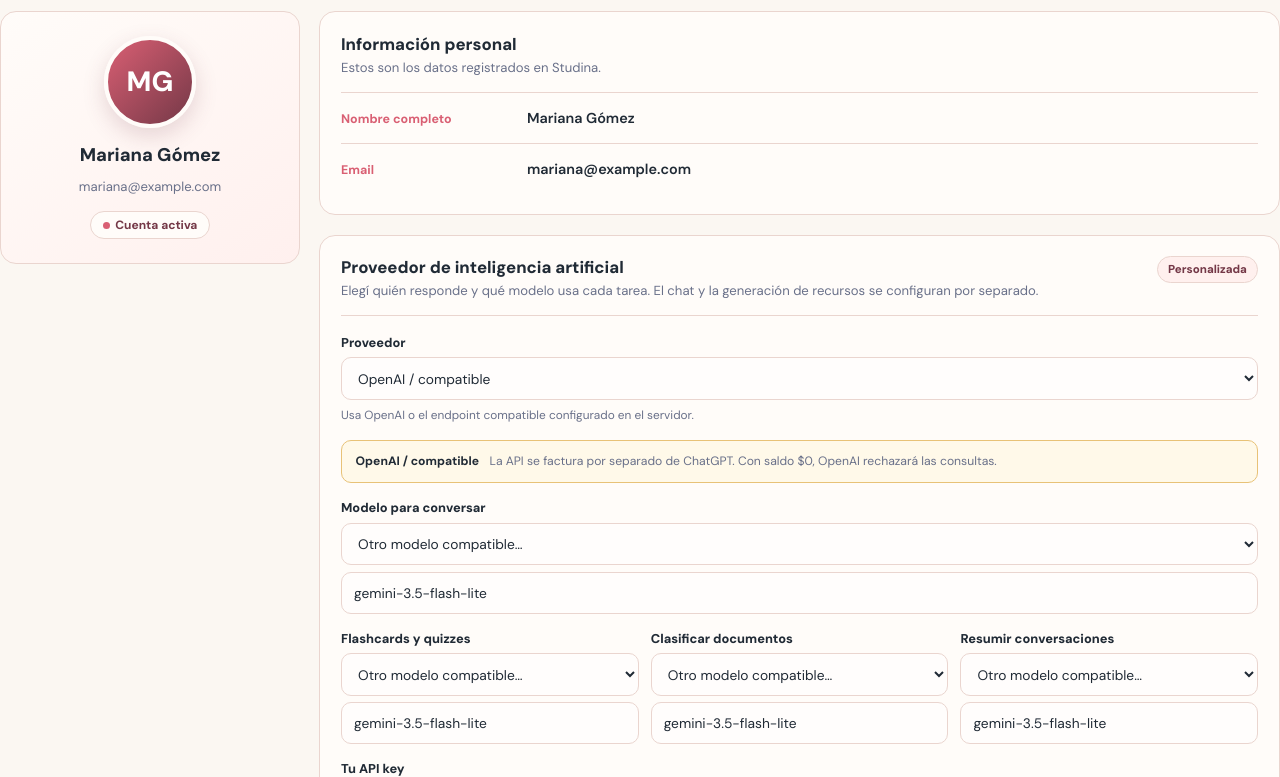
ProfilePage AI settings › conserva la API key guardada de openai al actualizar sólo un modelo
Select "Otro modelo compatible…" in the dropdown labelled "Modelo para conversar" at {"x": 800, "y": 544}, box [341,523,1258,566]
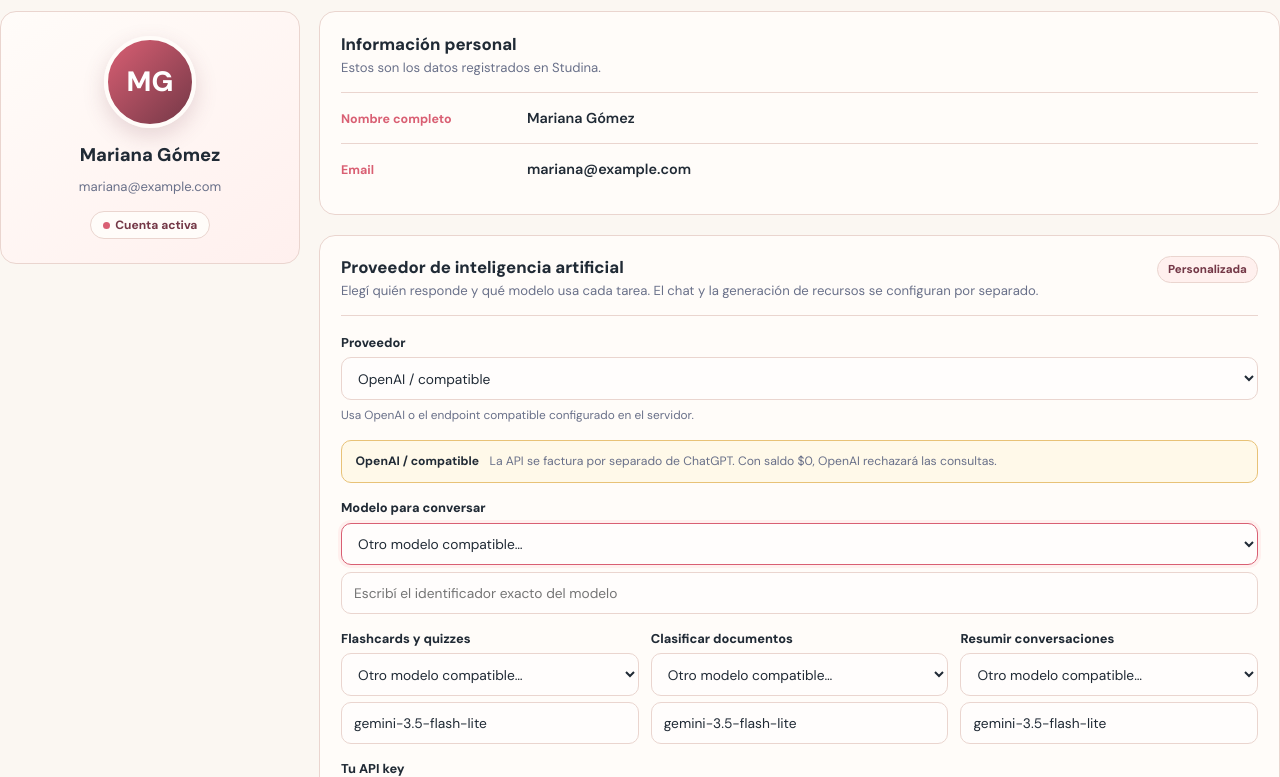
Type "model-updated" into the field named "Modelo para conversar: modelo personalizado" at {"x": 800, "y": 593}, box [341,572,1258,614]
(page scrolled)
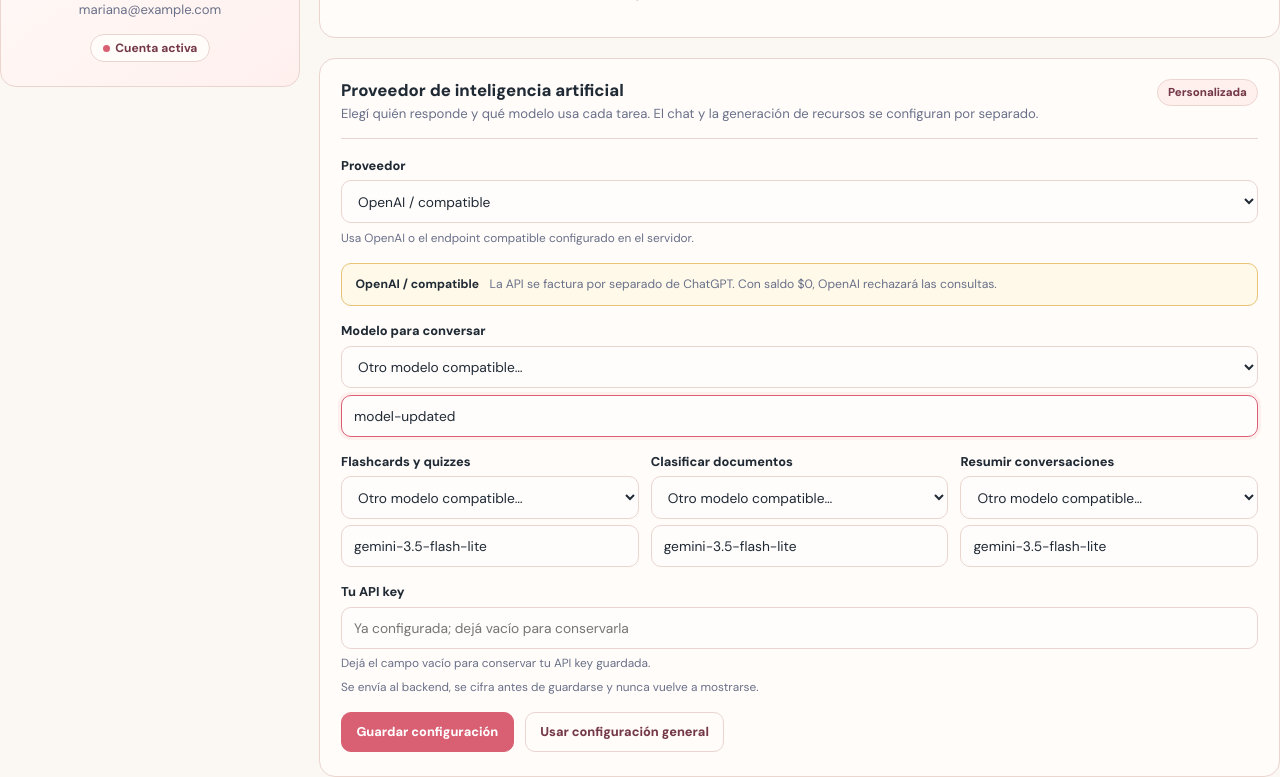
Click the button "Guardar configuración" at {"x": 427, "y": 732}, box [341,712,514,752]
(page scrolled)
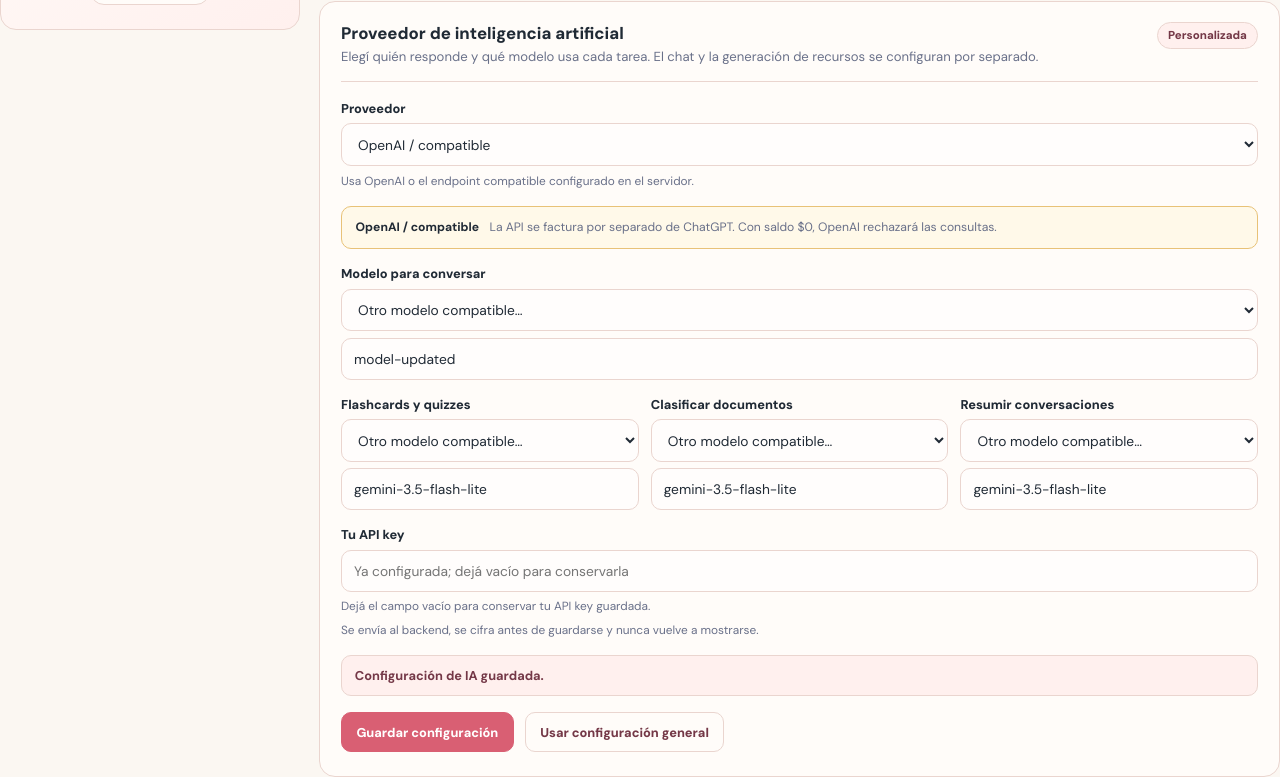
Expected: the password field labelled "Tu API key" is empty, [341,550,1258,592]
Expected: the text "Configuración de IA guardada." is shown, [341,655,1258,696]
